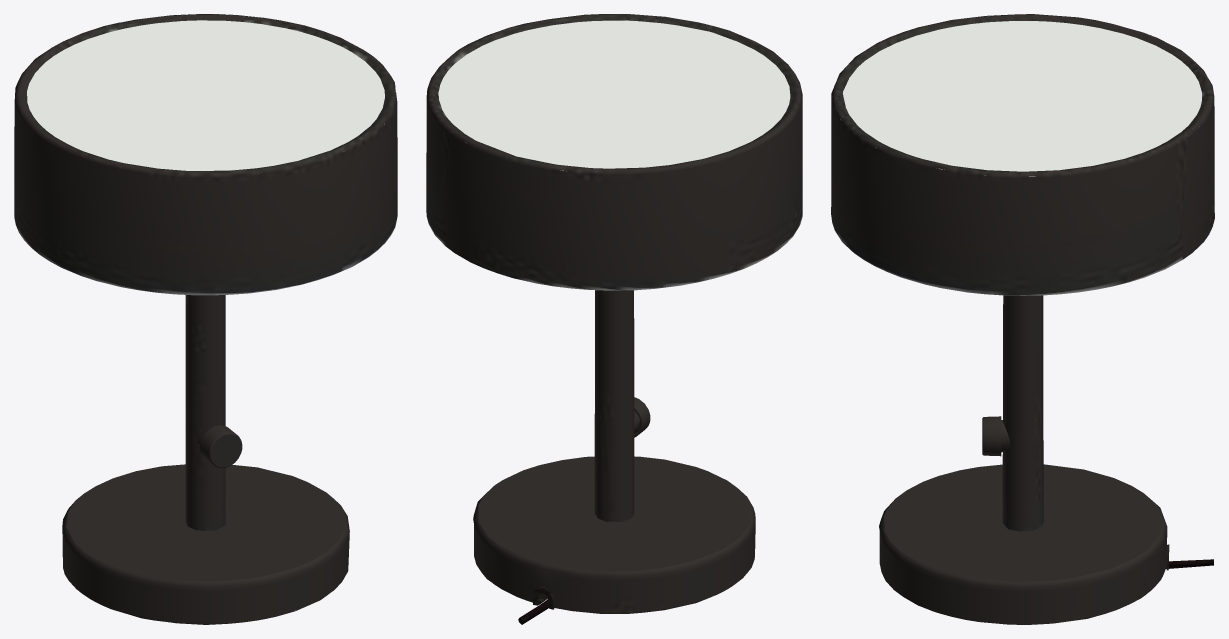
File: 18 - NYMÅNE Table lamp - anthracite 33 cm.glb
The picture shows the model from 3 angles, left to right: view 1: azimuth 30°, elevation 25°; view 2: azimuth 150°, elevation 25°; view 3: azimuth 270°, elevation 25°; orthographic projection.
Visible parts, largest first — view 1: ASY_LPT03_20593072_S01_NV01, ASY_ART_20593072_S01_NV01, ASY_LPT02_20593072_S01_NV01; view 2: ASY_LPT03_20593072_S01_NV01, ASY_ART_20593072_S01_NV01; view 3: ASY_LPT03_20593072_S01_NV01, ASY_ART_20593072_S01_NV01, ASY_LPT02_20593072_S01_NV01.
Part boxes in pixels (x1,y1,x2,y2): ASY_LPT03_20593072_S01_NV01: (14,14,397,295); ASY_ART_20593072_S01_NV01: (62,295,349,624); ASY_LPT02_20593072_S01_NV01: (199,425,242,468); ASY_LPT03_20593072_S01_NV01: (426,14,802,290); ASY_ART_20593072_S01_NV01: (473,290,755,624); ASY_LPT03_20593072_S01_NV01: (831,14,1214,295); ASY_ART_20593072_S01_NV01: (879,295,1213,624); ASY_LPT02_20593072_S01_NV01: (982,416,1001,456).
Size of the model in its own units: 0.2402 by 0.3289 by 0.2402.
5 materials, 5 textured.
